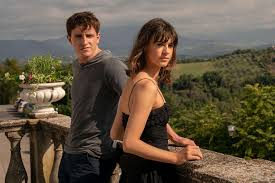face: (148, 39, 179, 71), (70, 28, 98, 56)
